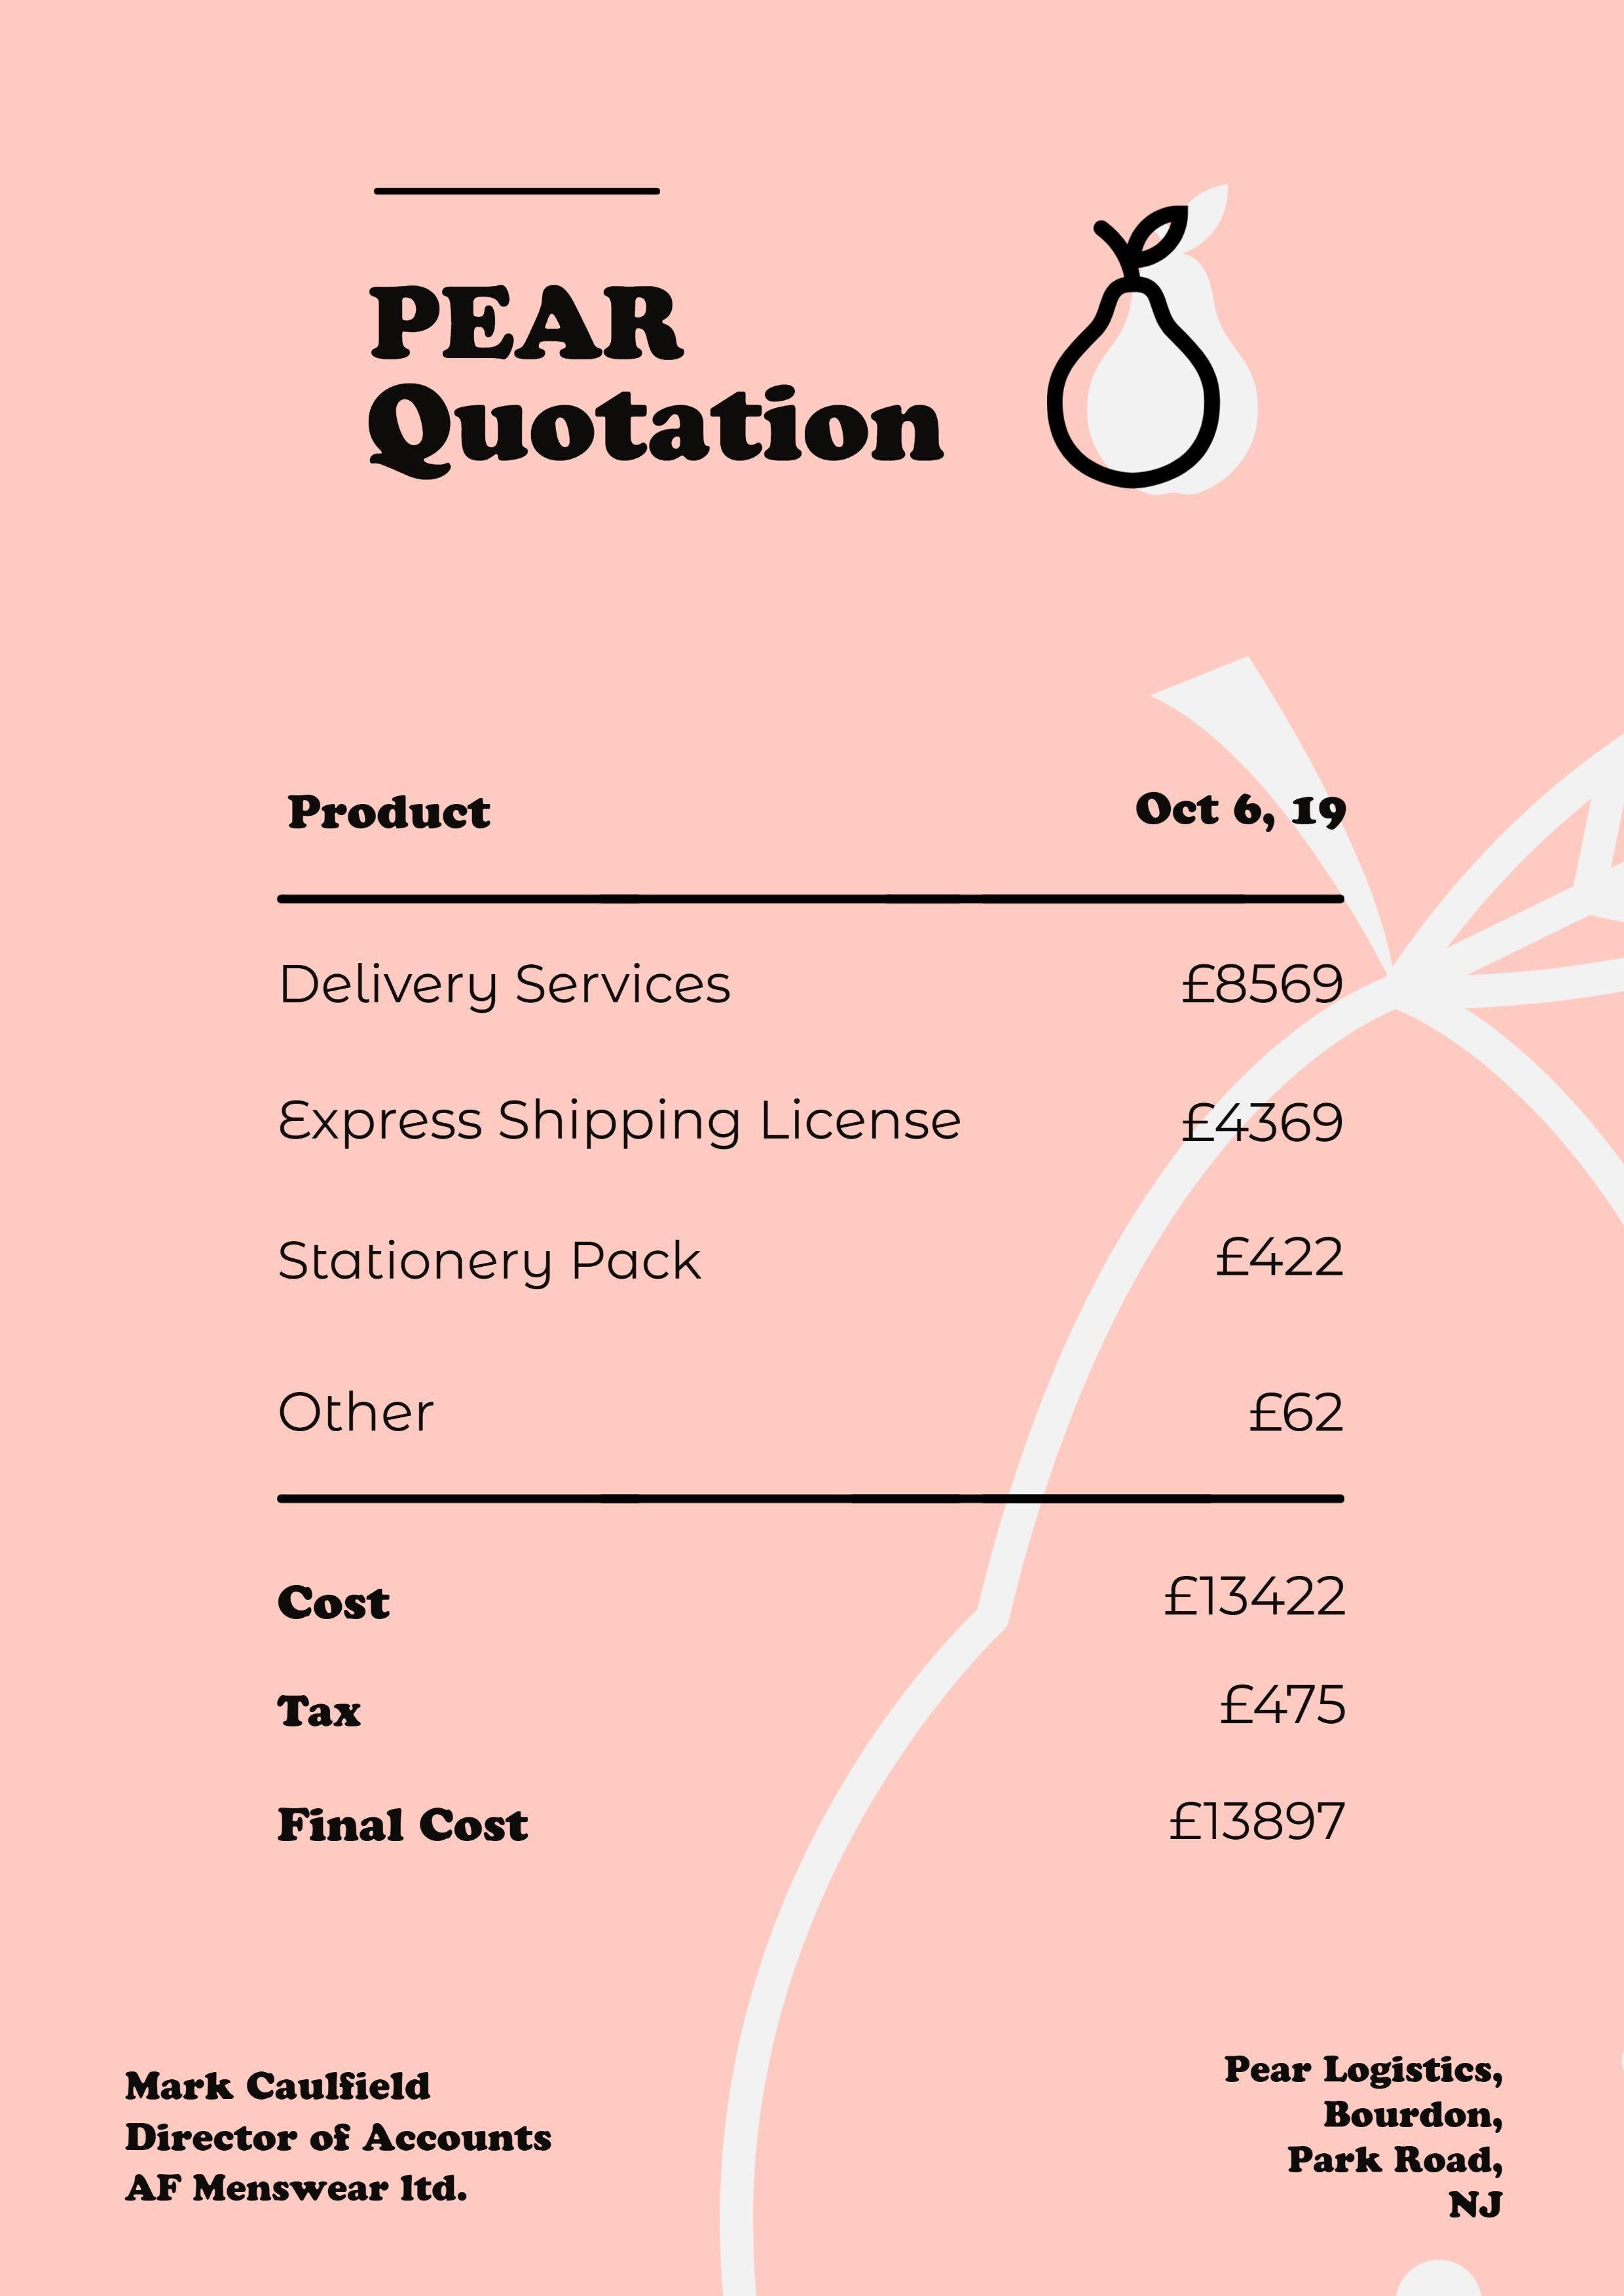ROI: (269, 769, 1380, 1490), (262, 1562, 1359, 1887), (121, 2032, 594, 2229), (1095, 2047, 1585, 2233)
